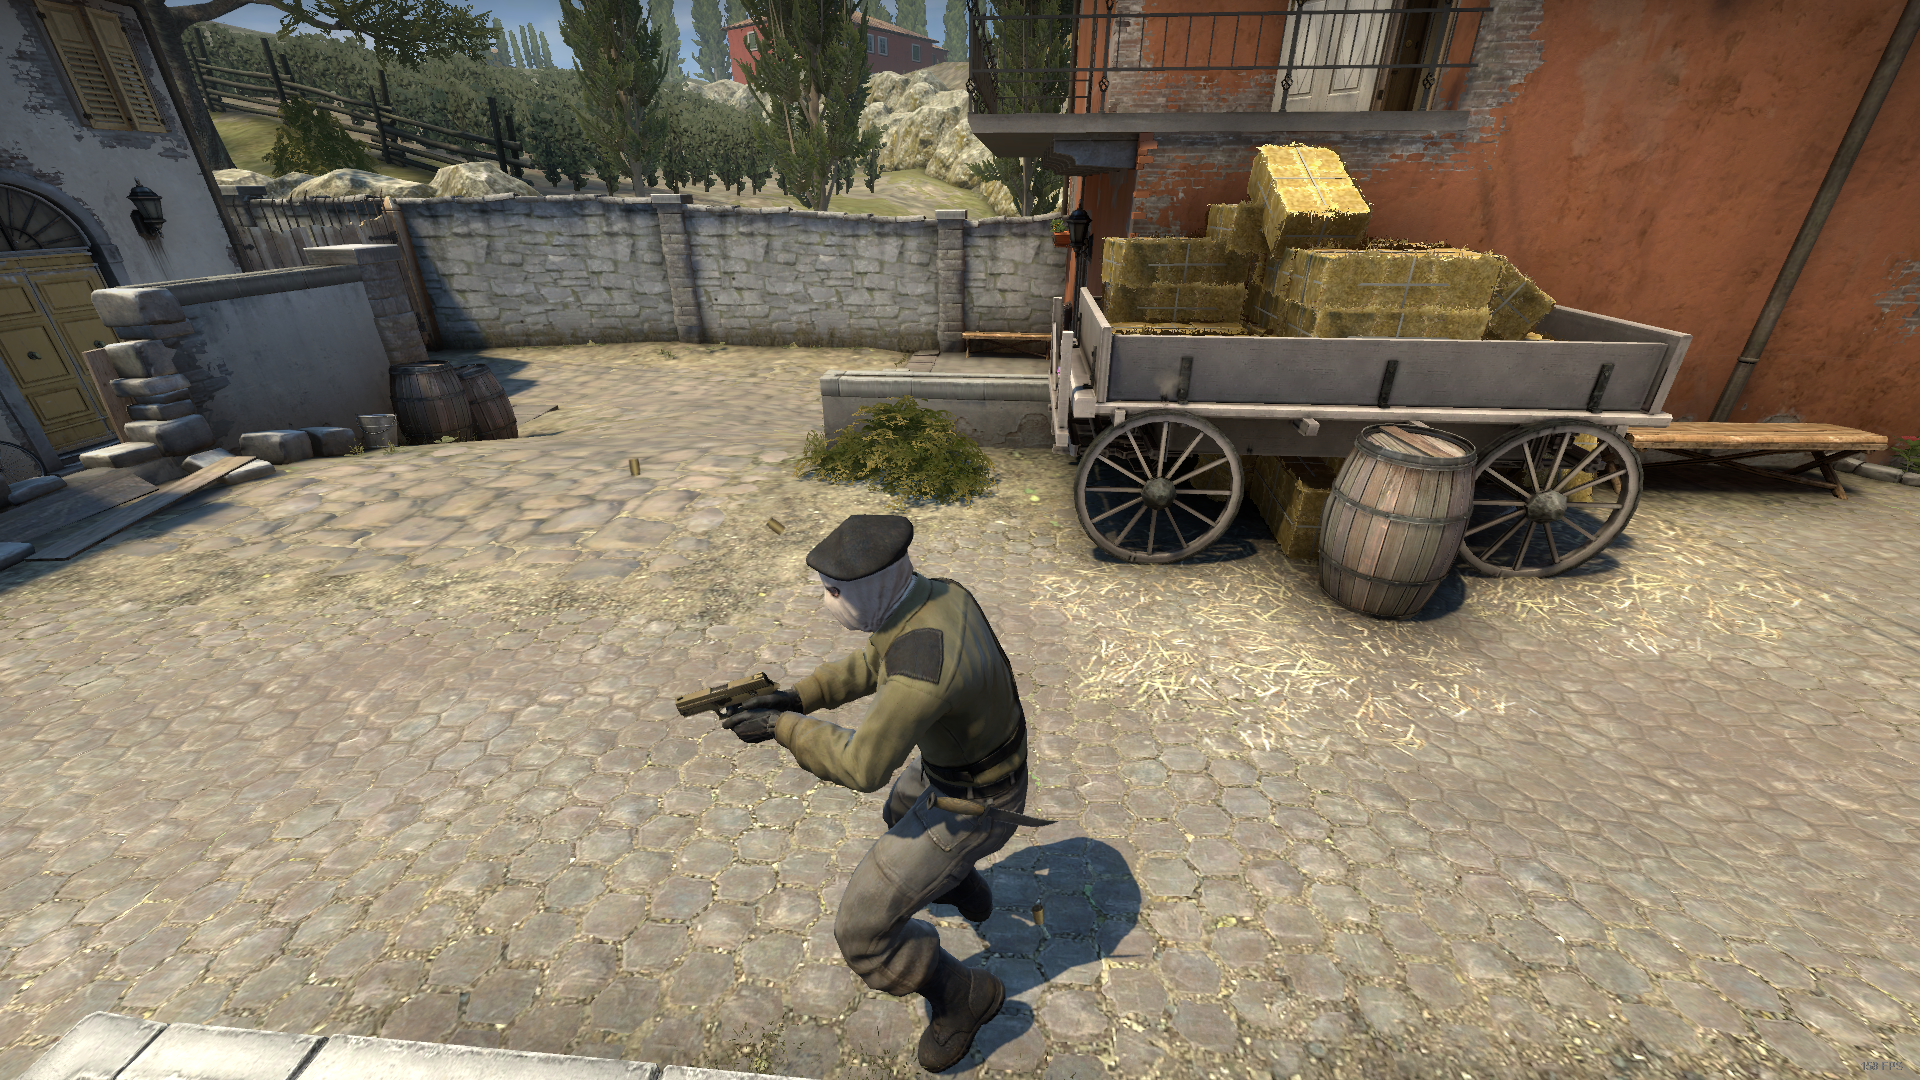t: (721, 514, 1025, 1071)
